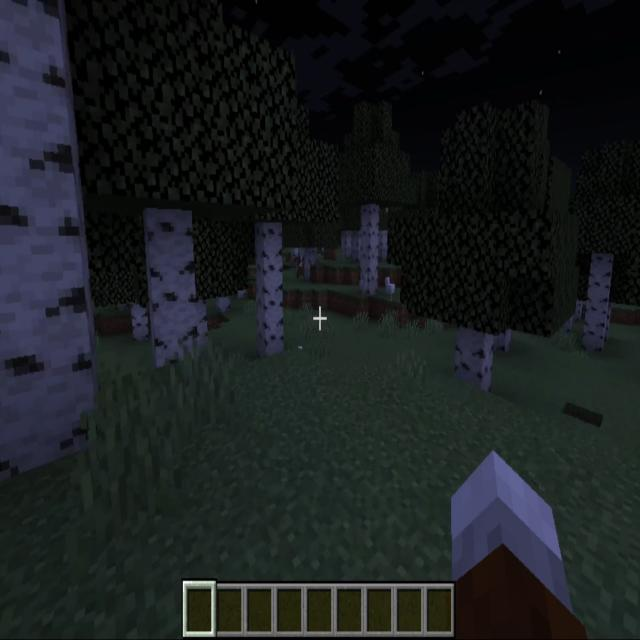Chicken: (358, 271, 372, 296), (383, 271, 395, 299)
Cow: (292, 246, 310, 278)
